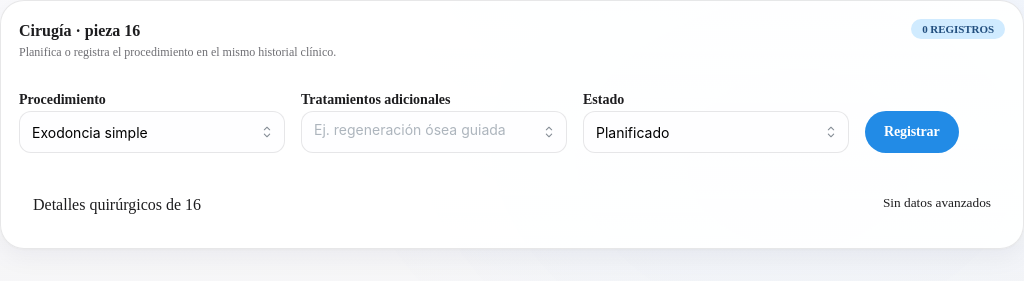
Test: offers Exodoncia compleja / 3er molar in procedure selector
Click the dropdown labelled "Procedimiento" at (152, 132), box [19,111,285,153]
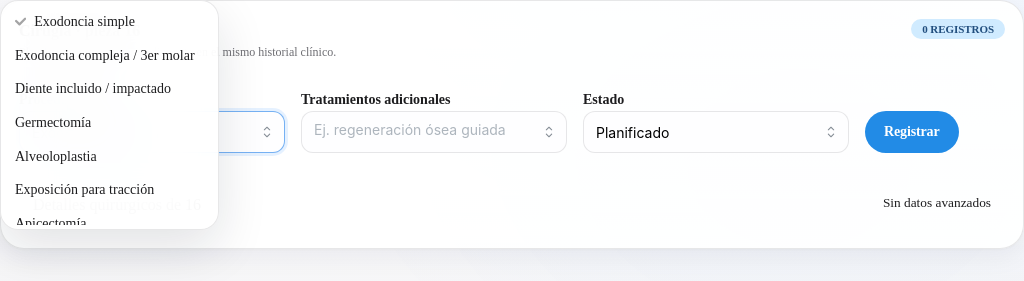
Result: the option "Exodoncia compleja / 3er molar" is shown at [15,48,195,63]
